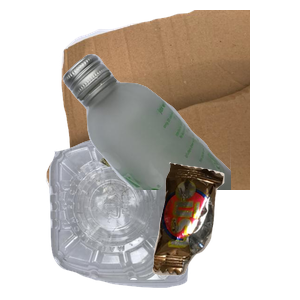cardboard: (43, 10, 283, 190)
glass: (60, 51, 300, 231)
plastic: (46, 130, 227, 300)
trash: (150, 160, 300, 300)
